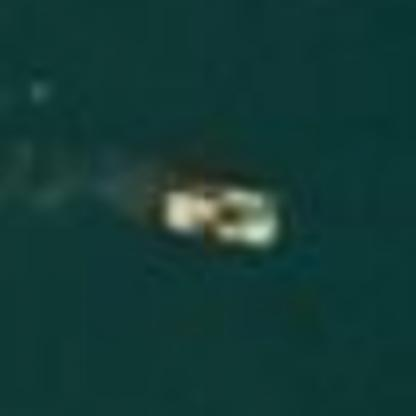ship: (143, 154, 301, 270)
